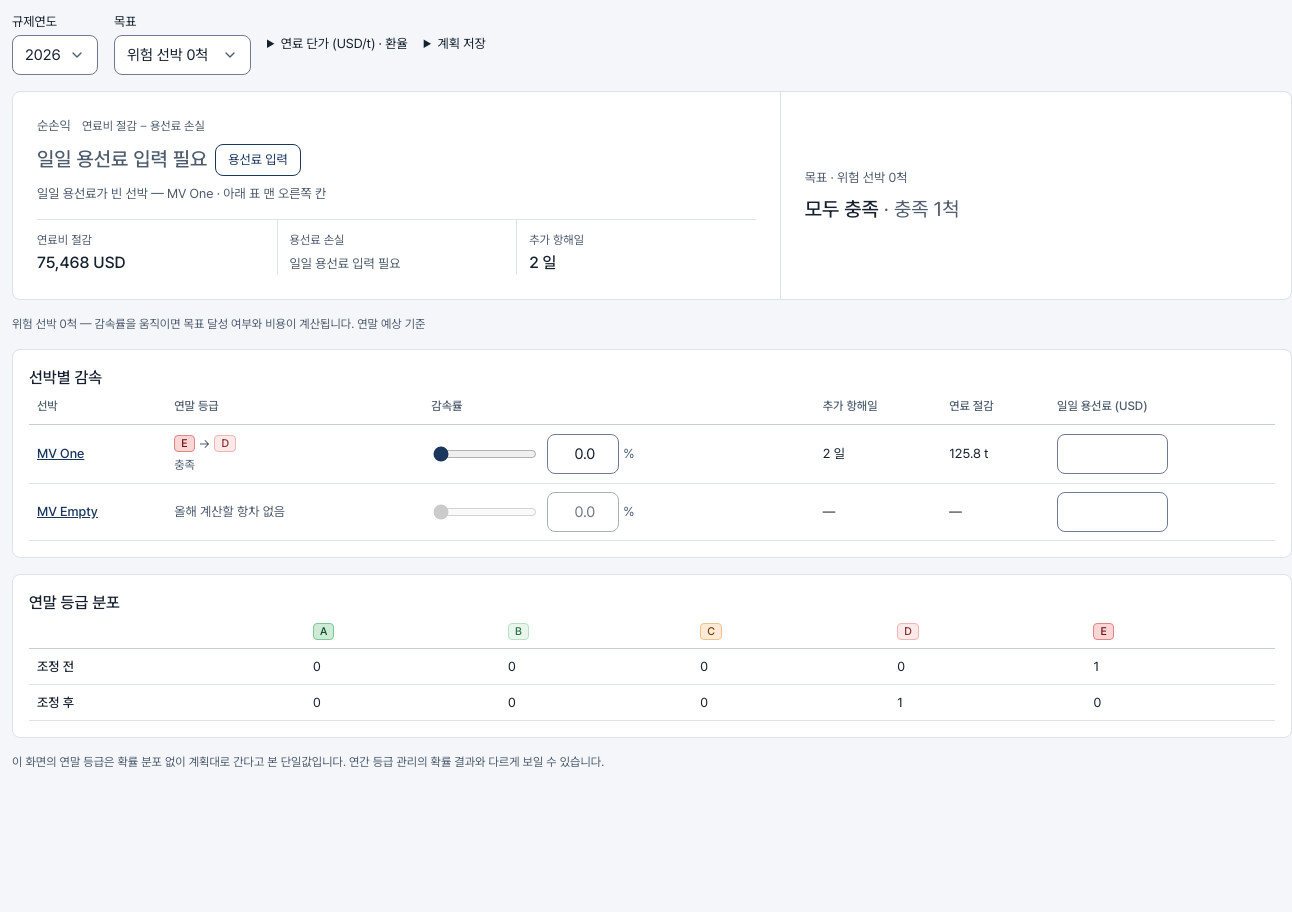
Scenario: 함대 감축 계획 화면 (#513) › 감속률을 숫자로도 넣는다 — 슬라이더와 같은 값을 쥐고, 범위 밖은 칸을 떠날 때 맞춘다 (#2345)
Replace the text in the number field named "MV One 감속률 (%)" with "7.3" at (583, 454), box [547,434,619,474]
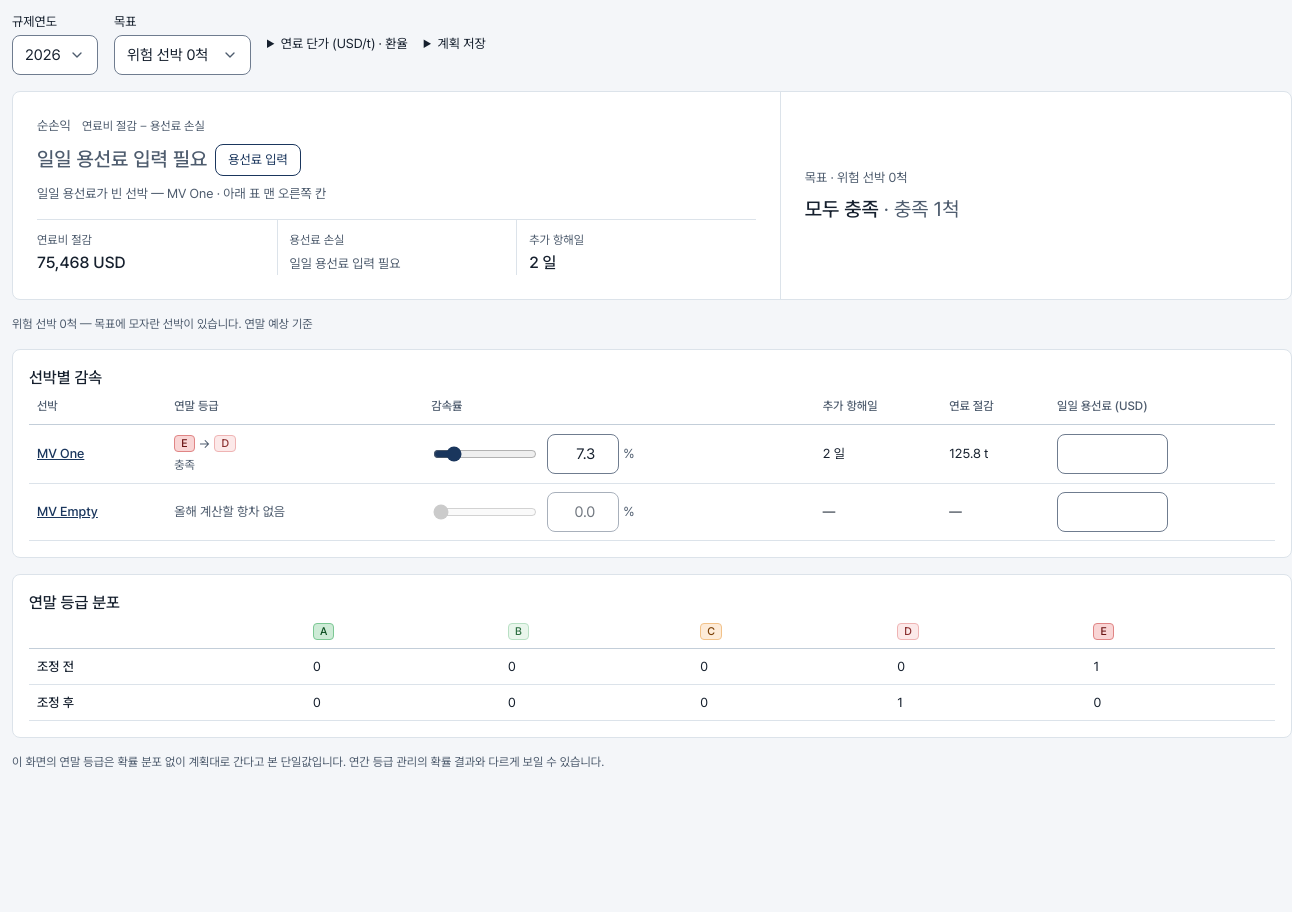
Now the slider named "MV One 감속률" holds "7.3", box [433,446,537,462]
Replace the text in the number field named "MV One 감속률 (%)" with "80" at (583, 454), box [547,434,619,474]
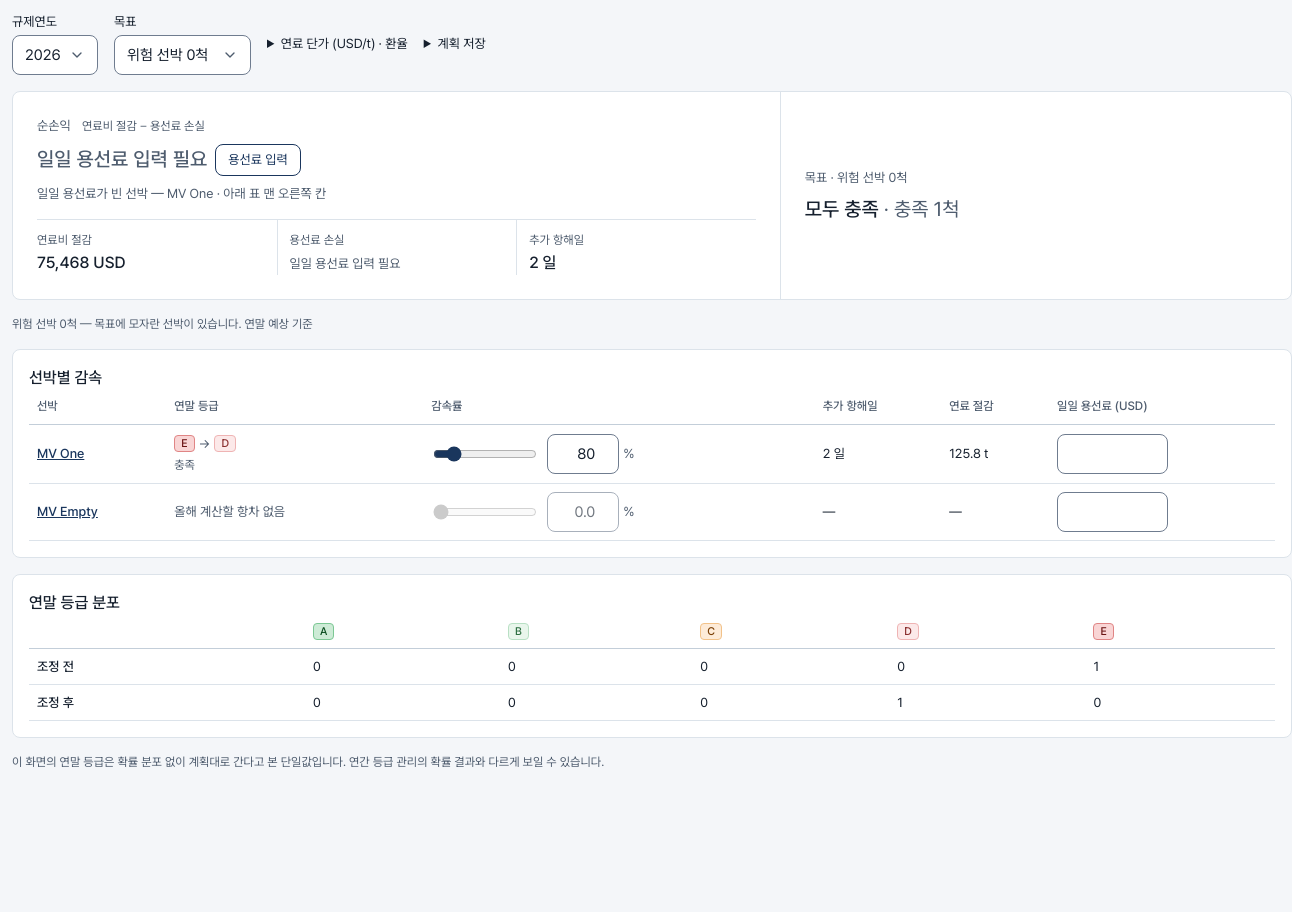
Leave the number field named "MV One 감속률 (%)", box [547,434,619,474]
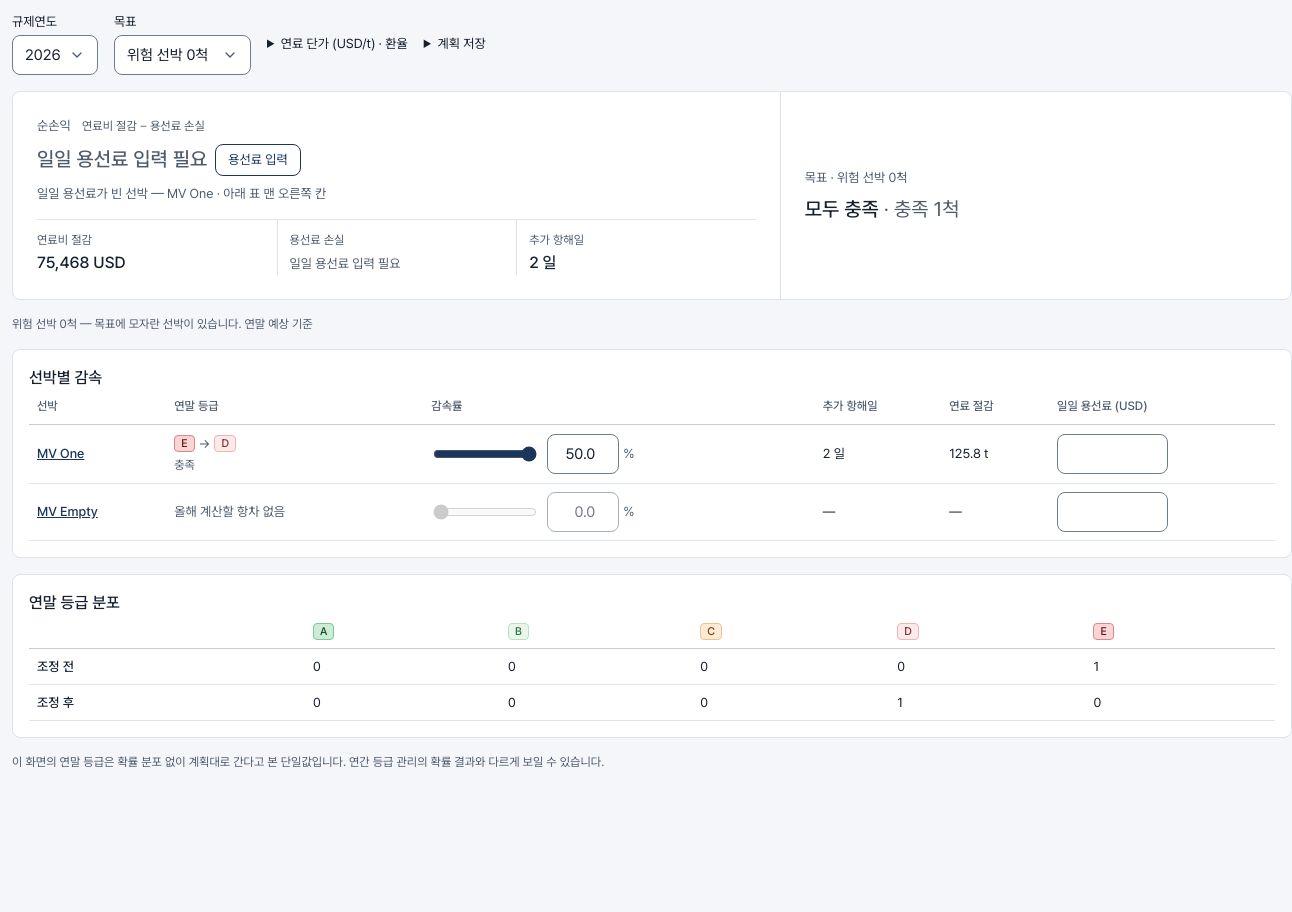
Expected: the number field named "MV Empty 감속률 (%)" is disabled, [547,492,619,532]
Now the number field named "MV One 감속률 (%)" holds "50.0", box [547,434,619,474]
